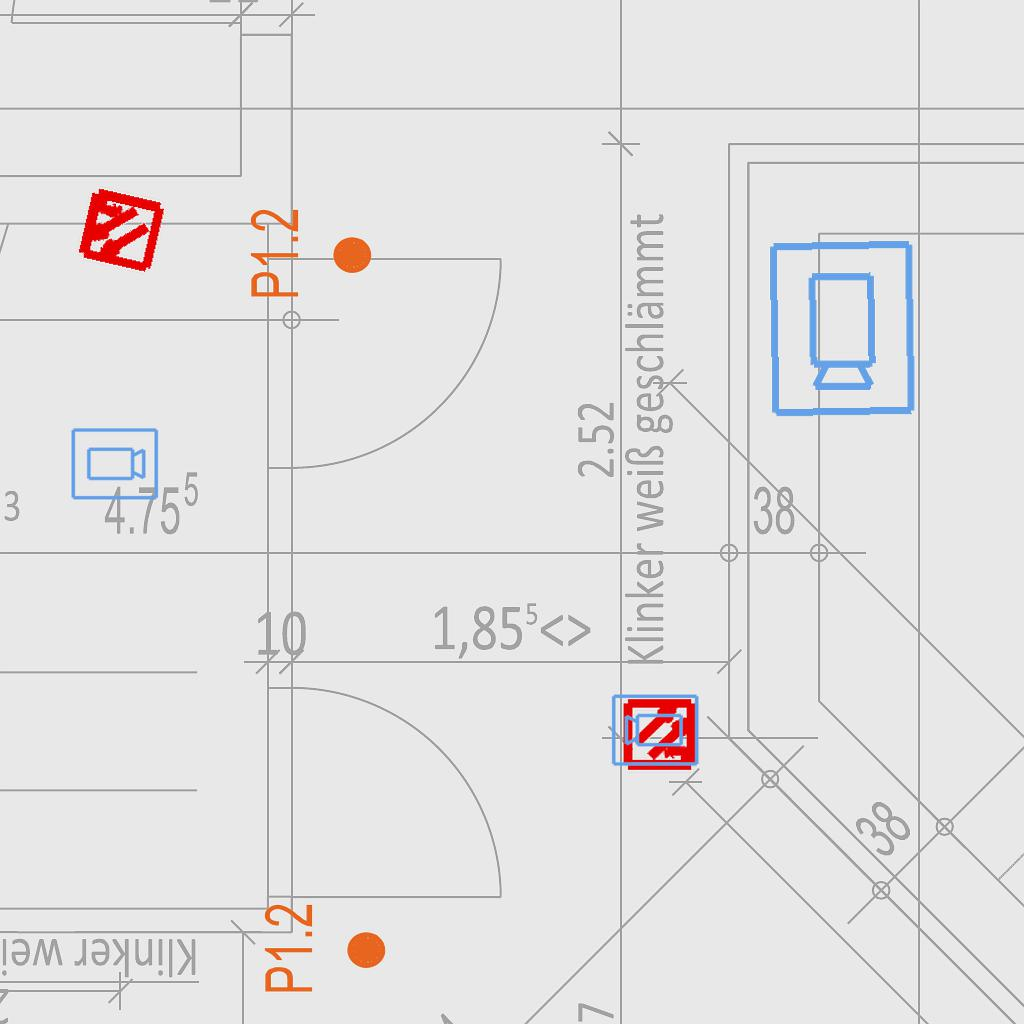Downlight_LED_Einbauleuchten_Flur: (247, 207, 375, 300), (261, 902, 389, 995)
KFO_Kamera_mit_Festobjektiv: (762, 235, 920, 421), (69, 426, 160, 503), (610, 691, 701, 768)
OT_Multisensormelder_(Kombination_RMO_WMD): (51, 161, 188, 298), (606, 678, 719, 791)
